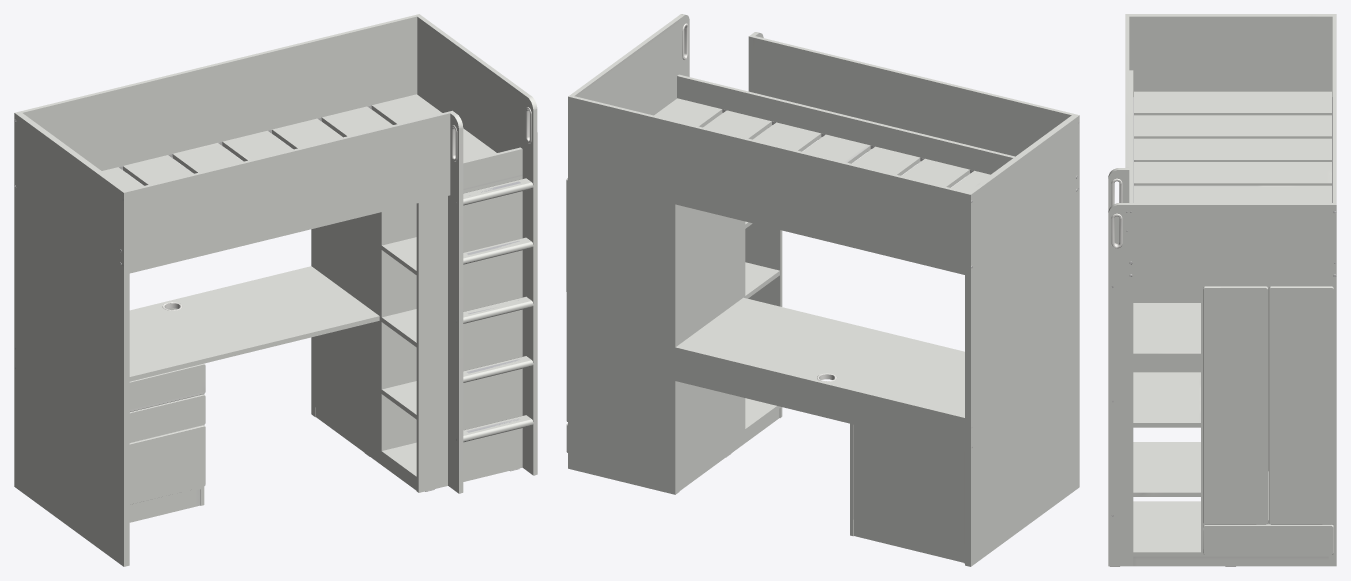
The model's file is smastad_ozko_na_antresoli_89520158.glb.
3 renders of one model, left to right at view 1: azimuth 30°, elevation 25°; view 2: azimuth 150°, elevation 25°; view 3: azimuth 270°, elevation 25°, orthographic. The views are drawn at different scales.
Parts seen in each view (by area): view 1: smastad_ozko_na_antresoli_89520158; view 2: smastad_ozko_na_antresoli_89520158; view 3: smastad_ozko_na_antresoli_89520158.
Part boxes in pixels (left/top/right/bottom): smastad_ozko_na_antresoli_89520158: left=14, top=14, right=537, bottom=566; smastad_ozko_na_antresoli_89520158: left=566, top=14, right=1079, bottom=566; smastad_ozko_na_antresoli_89520158: left=1108, top=14, right=1336, bottom=566.
Size of the model in its own units: 2.08 by 1.82 by 1.04.
Materials: 1 (1 with a texture image).
